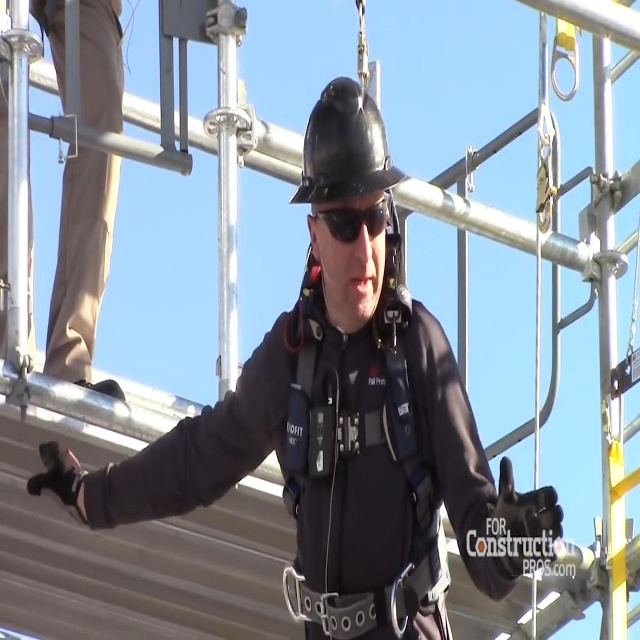Arnes_seguridad: (280, 132, 470, 640)
